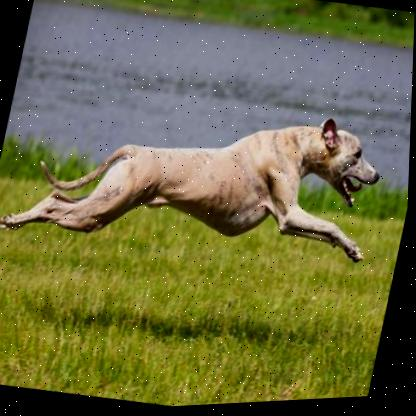dog: (0, 41, 406, 313)
